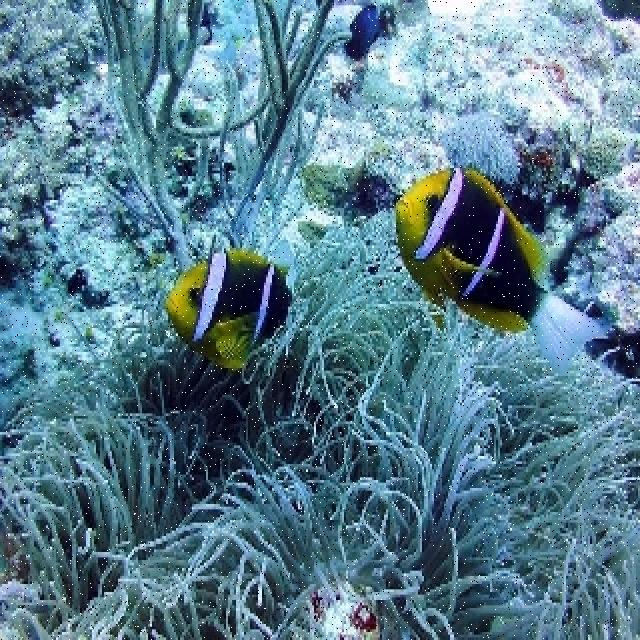fish: (393, 165, 608, 385), (162, 251, 293, 369), (344, 3, 381, 59)
reefs: (0, 211, 638, 637), (209, 0, 349, 243), (88, 0, 209, 269)
